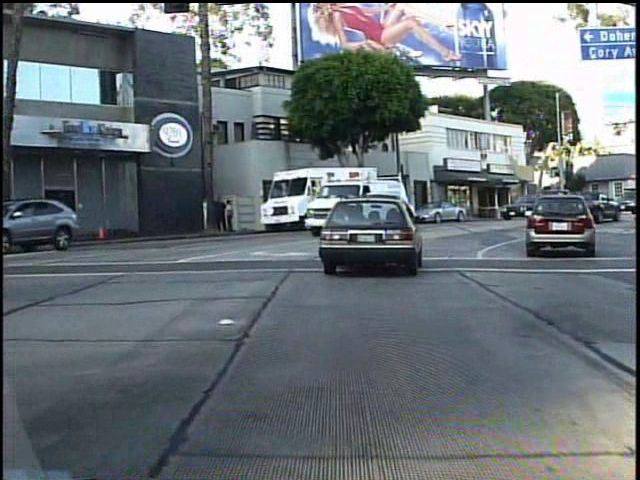person: (213, 193, 229, 234), (225, 198, 239, 234)
